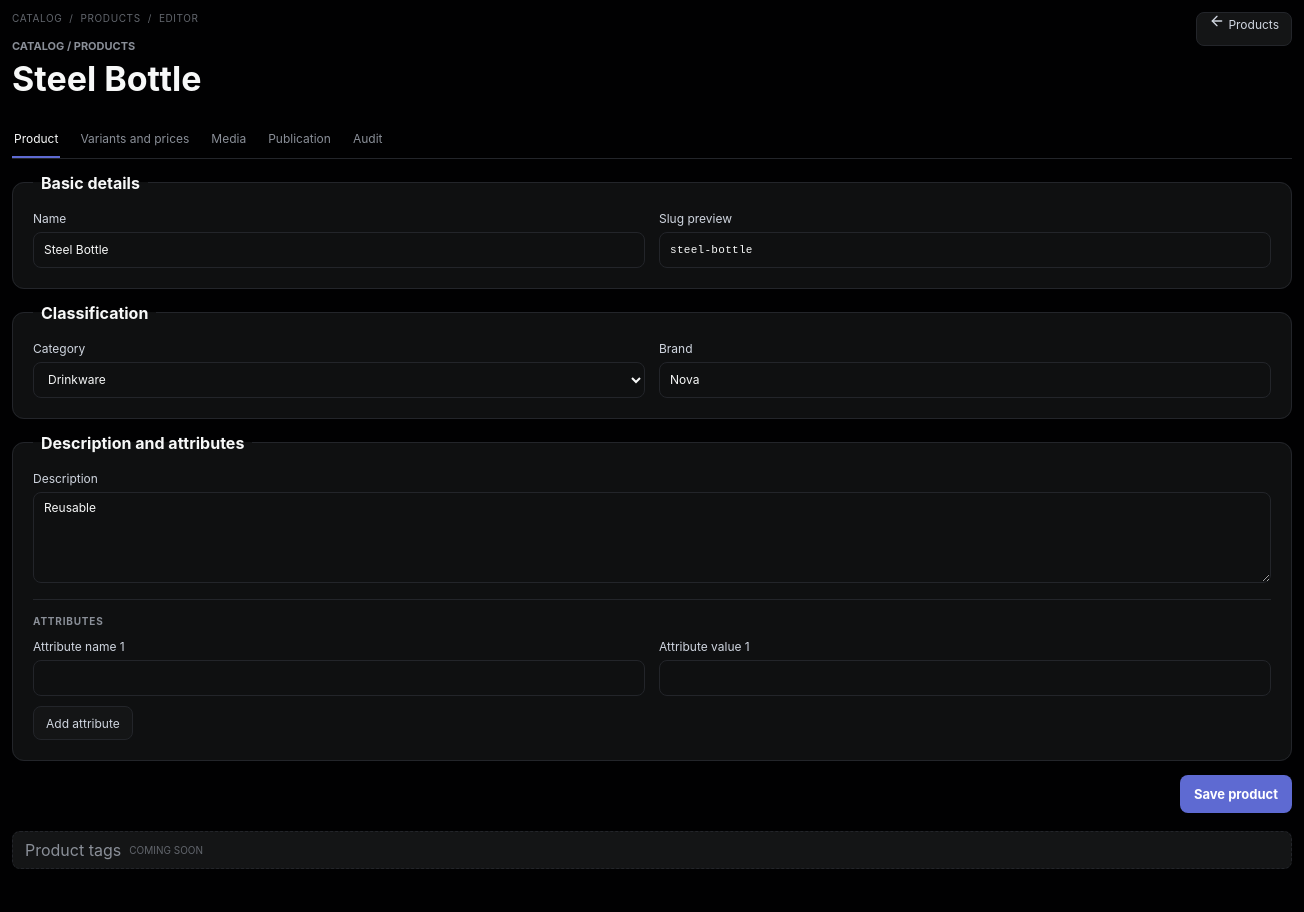
Test: ProductEditorPage › switches among flat operational editor tabs
expect the field showing "Steel Bottle" is shown: met, box left=33, top=232, right=645, bottom=268
expect the element named "Product editor sections" is shown: met, box left=12, top=121, right=1292, bottom=159
Click the tab "Variants and prices". click: coordinates (135, 139)
box: left=78, top=121, right=191, bottom=158
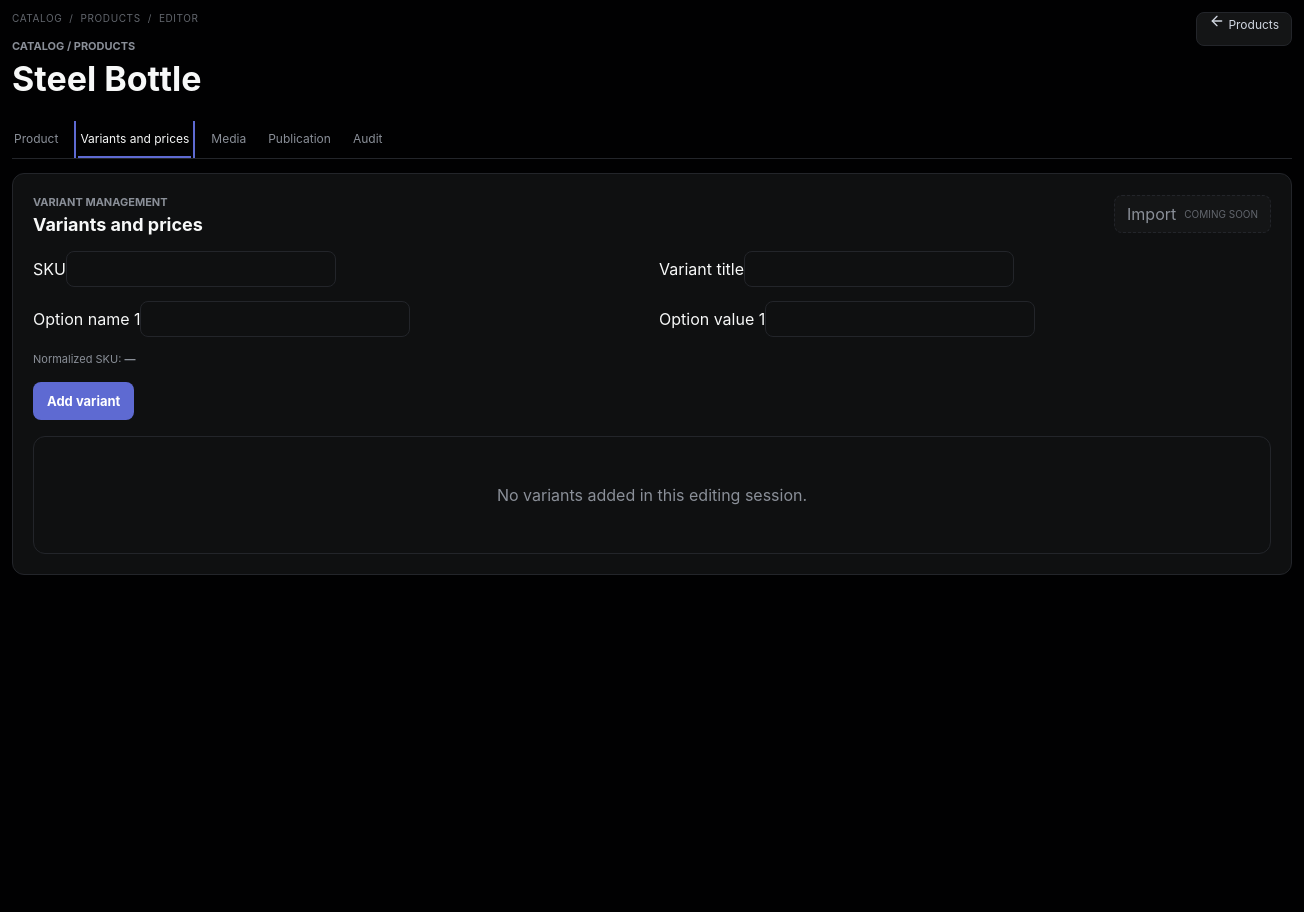
expect the field labelled "SKU" is shown: met, box left=66, top=251, right=336, bottom=287
expect the button "Import Coming soon" is disabled: met, box left=1114, top=195, right=1271, bottom=233
Click the tab "Media". click: coordinates (229, 139)
box: left=209, top=121, right=248, bottom=158
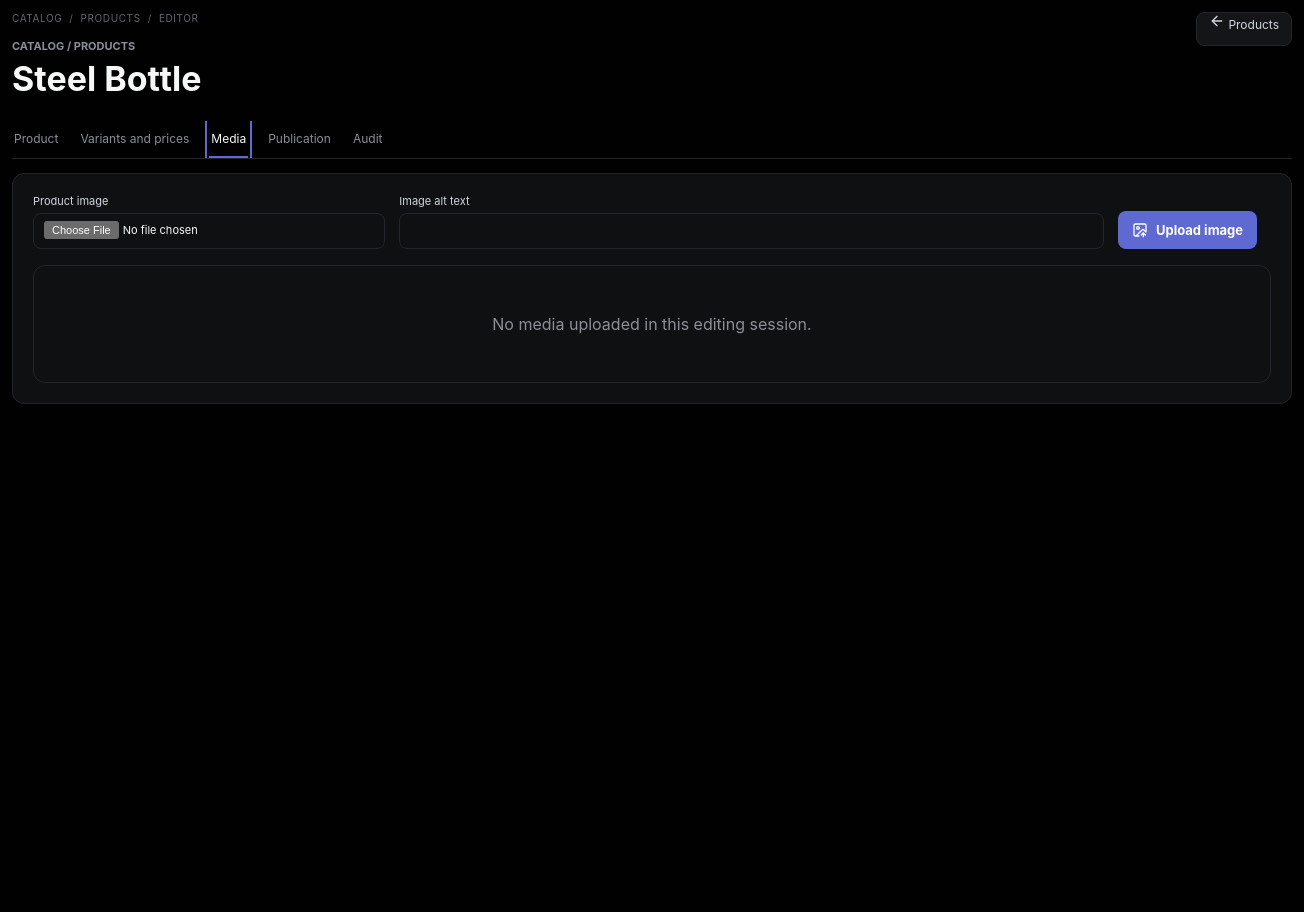
expect the file field labelled "Product image" is shown: met, box left=33, top=213, right=385, bottom=249
Click the tab "Publication". click: coordinates (300, 139)
box: left=266, top=121, right=333, bottom=158
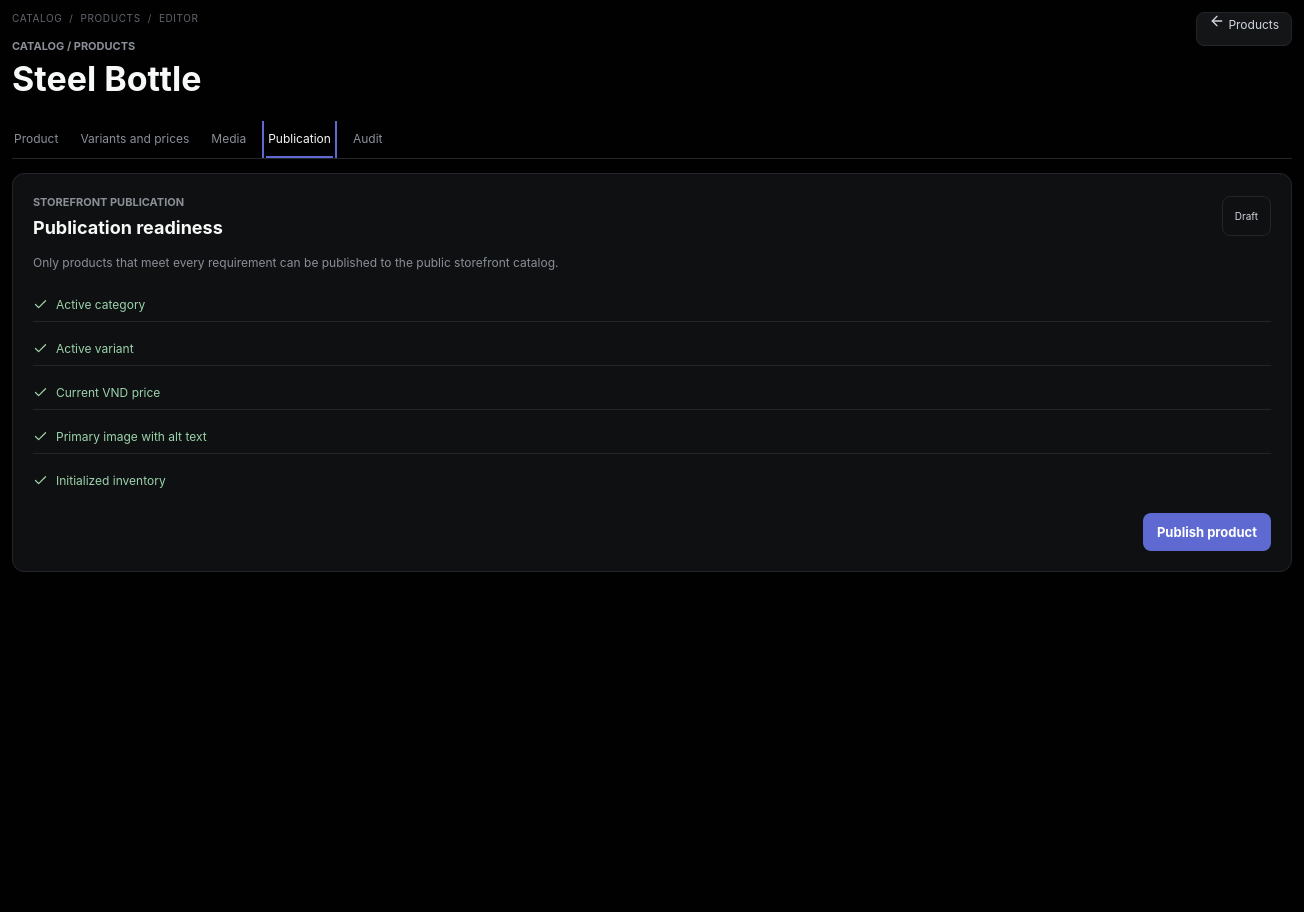
Click the button "Publish product". click: coordinates (1207, 532)
box: left=1143, top=513, right=1271, bottom=551
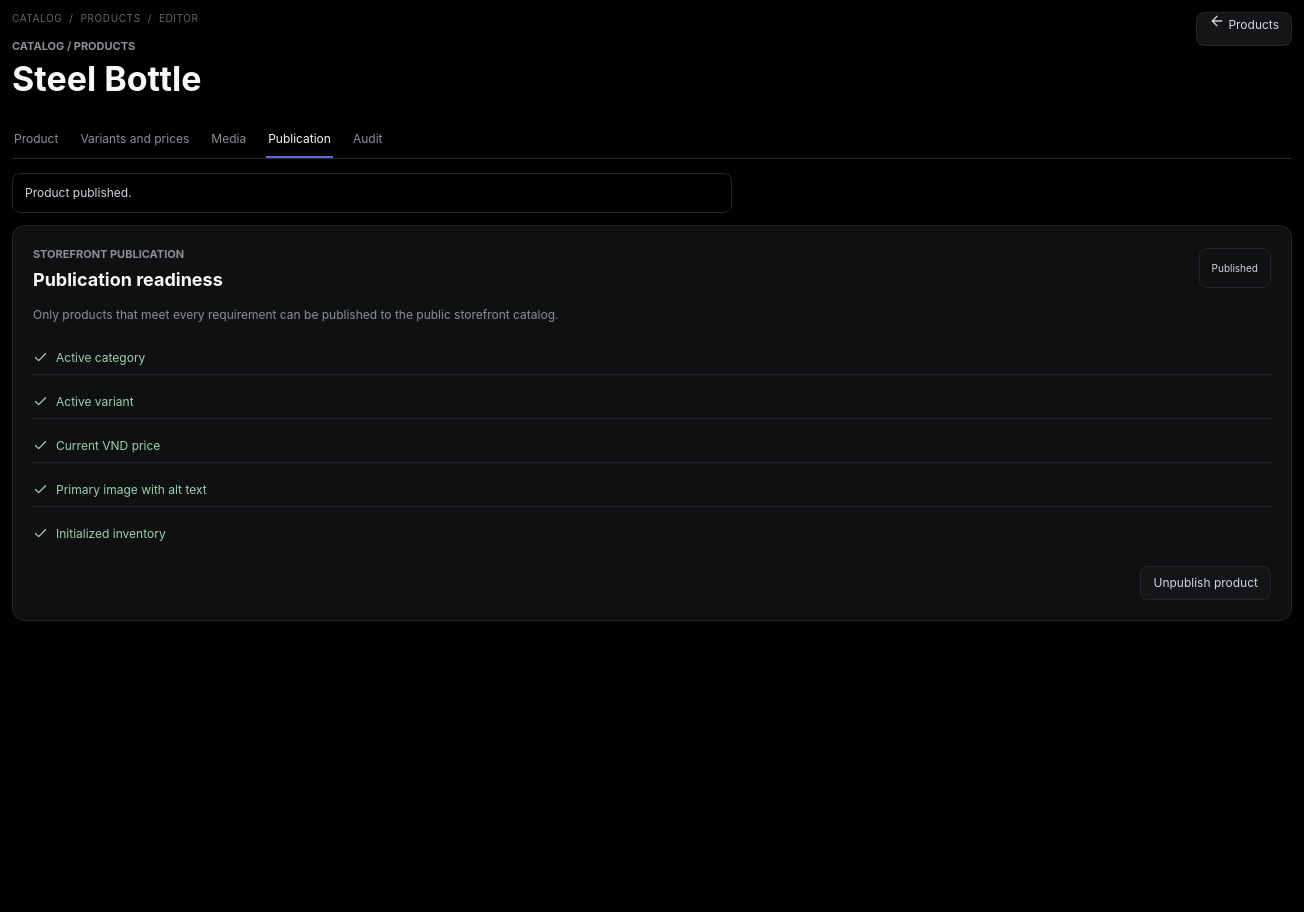
expect the text "Product published." is shown: met, box left=12, top=173, right=732, bottom=213
Click the tab "Audit". click: coordinates (368, 139)
box: left=351, top=121, right=384, bottom=158
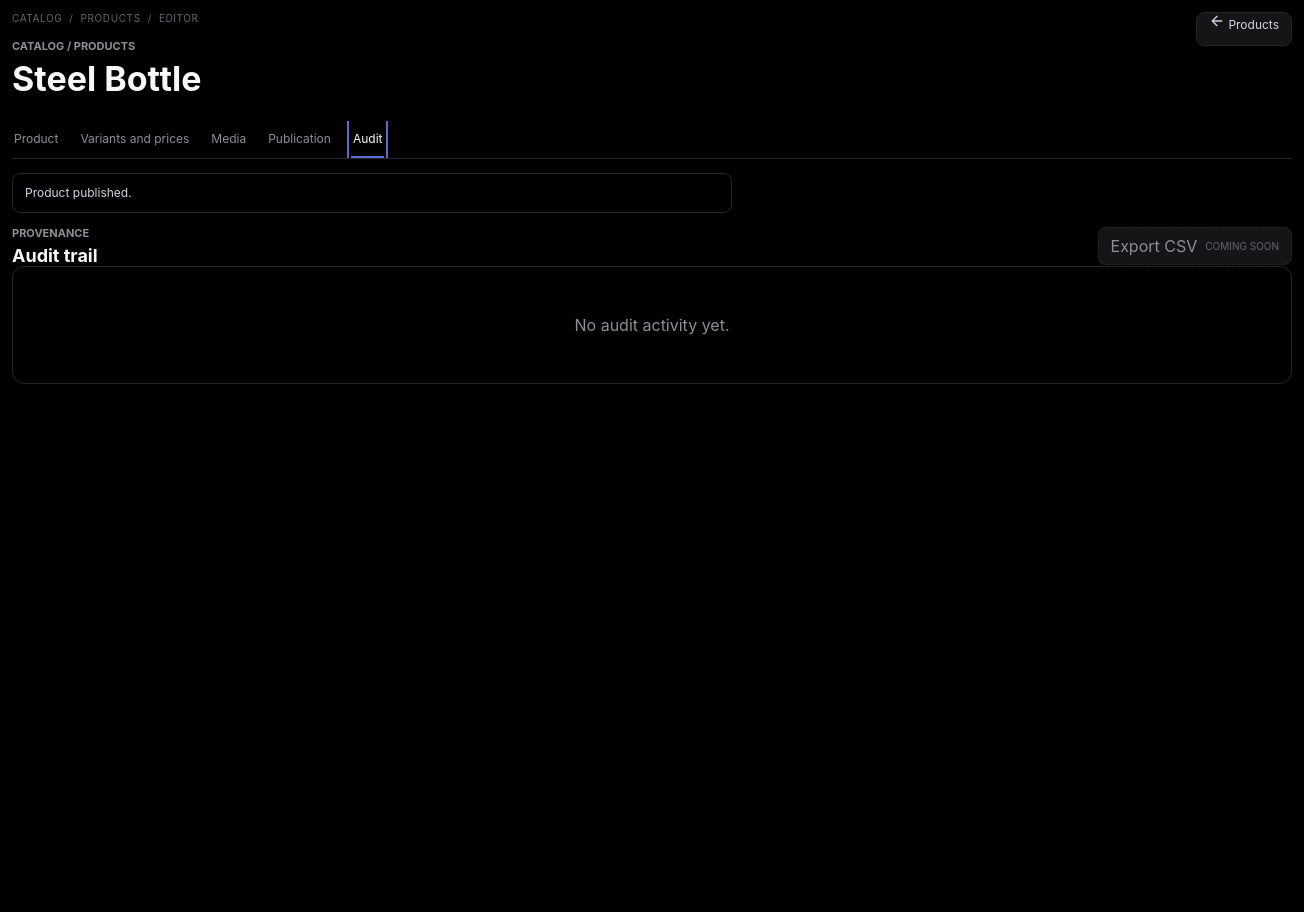
expect the text "No audit activity yet." is shown: met, box left=12, top=266, right=1292, bottom=384
expect the button "Export CSV Coming soon" is disabled: met, box left=1098, top=227, right=1292, bottom=265
